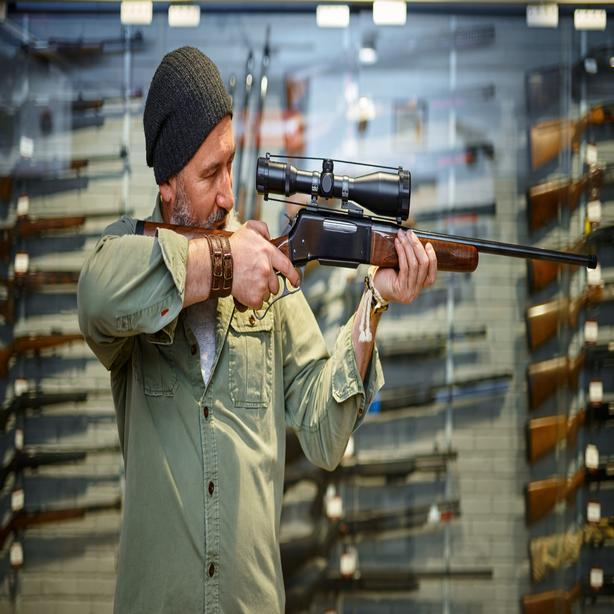Firearm: (149, 138, 612, 360)
